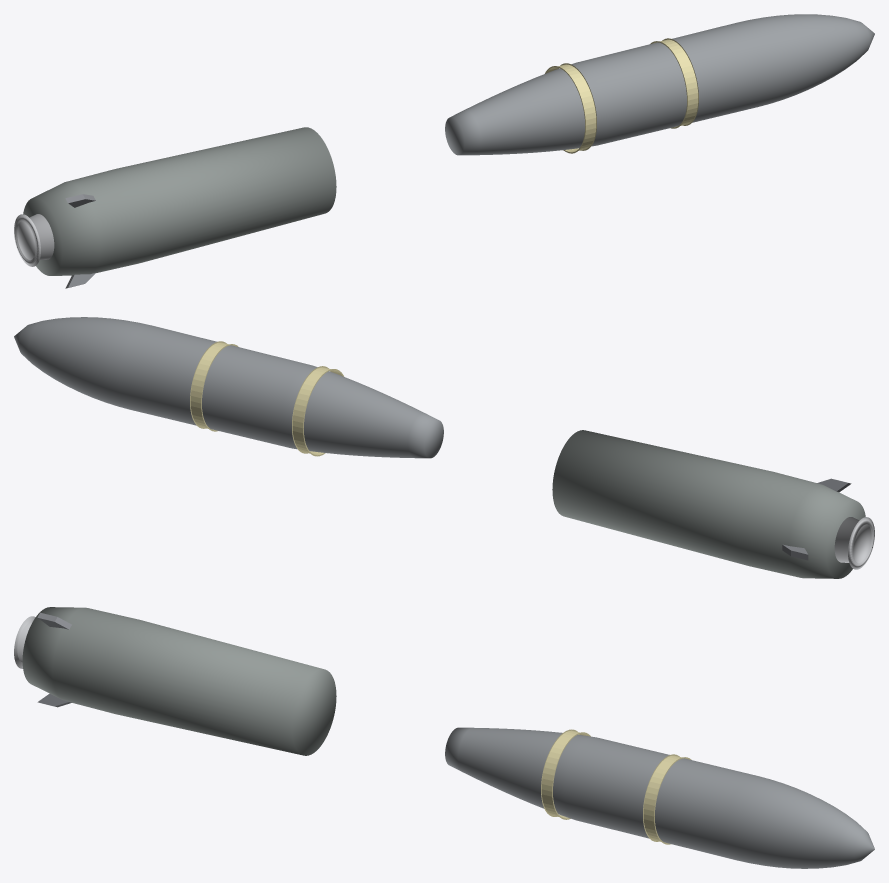
Rendered from CN_ASW_CY1_LOD0.fbx.
3 views of the same model, one above another, from view 1: azimuth 30°, elevation 25°; view 2: azimuth 150°, elevation 25°; view 3: azimuth 330°, elevation 25° (orthographic).
Parts seen in each view (by area): view 1: WPN_CN_ASW_CY1_LOD0_Body, WPN_CN_ASW_CY1_LOD0_Tail, WPN_CN_ASW_CY1_LOD0_Marking, WPN_CN_ASW_CY1_LOD0_Propulsor; view 2: WPN_CN_ASW_CY1_LOD0_Body, WPN_CN_ASW_CY1_LOD0_Tail, WPN_CN_ASW_CY1_LOD0_Marking, WPN_CN_ASW_CY1_LOD0_Propulsor, WPN_CN_ASW_CY1_LOD0_Fins; view 3: WPN_CN_ASW_CY1_LOD0_Body, WPN_CN_ASW_CY1_LOD0_Tail, WPN_CN_ASW_CY1_LOD0_Marking, WPN_CN_ASW_CY1_LOD0_Fins.
Part boxes in pixels (x1,y1,x2,y2): WPN_CN_ASW_CY1_LOD0_Body: (445,14,874,155); WPN_CN_ASW_CY1_LOD0_Tail: (23,127,336,275); WPN_CN_ASW_CY1_LOD0_Marking: (545,38,698,153); WPN_CN_ASW_CY1_LOD0_Propulsor: (14,214,54,266); WPN_CN_ASW_CY1_LOD0_Body: (14,317,443,458); WPN_CN_ASW_CY1_LOD0_Tail: (552,430,865,578); WPN_CN_ASW_CY1_LOD0_Marking: (190,341,344,456); WPN_CN_ASW_CY1_LOD0_Propulsor: (834,517,874,569); WPN_CN_ASW_CY1_LOD0_Fins: (782,478,851,560); WPN_CN_ASW_CY1_LOD0_Body: (445,727,874,868); WPN_CN_ASW_CY1_LOD0_Tail: (22,607,336,755); WPN_CN_ASW_CY1_LOD0_Marking: (541,729,691,844); WPN_CN_ASW_CY1_LOD0_Fins: (37,612,71,707).
Bounding box in the file's own units: 6 × 0.6395 × 0.6107.
